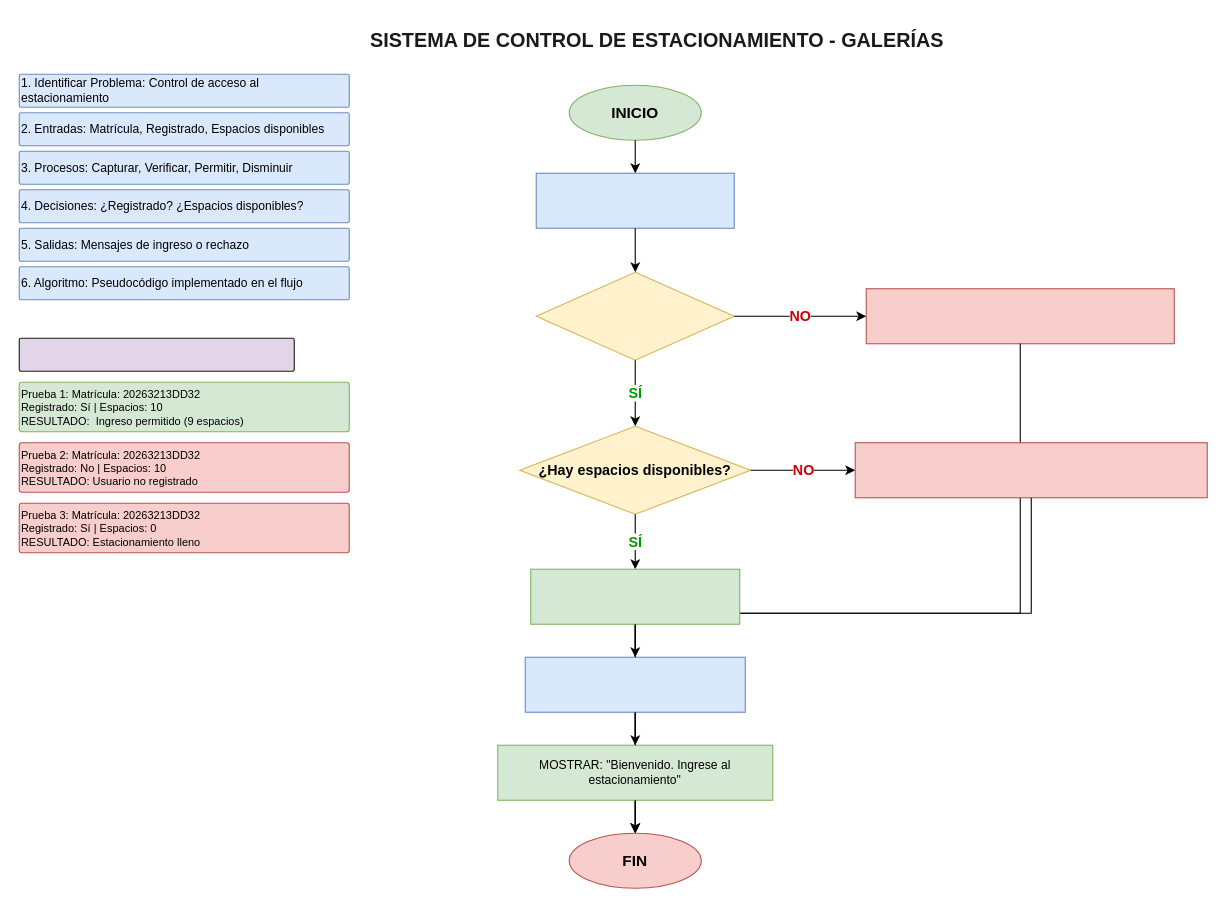
This 1227x908 diagram has some shape labels left out. Each missing label, with the box of its shape:
Capturar matrícula del conductor: (535, 172, 734, 228)
Disminuir espacios disponibles en 1: (524, 656, 745, 712)
MOSTRAR: "Acceso denegado: Usuario no registrado": (865, 288, 1174, 344)
MOSTRAR: "Estacionamiento lleno. No hay lugares disponibles": (854, 442, 1207, 498)
Permitir entrada del vehículo: (530, 568, 740, 624)
PRUEBAS CON DATOS REALES: (18, 337, 294, 371)
¿Está registrado?: (535, 271, 734, 360)
